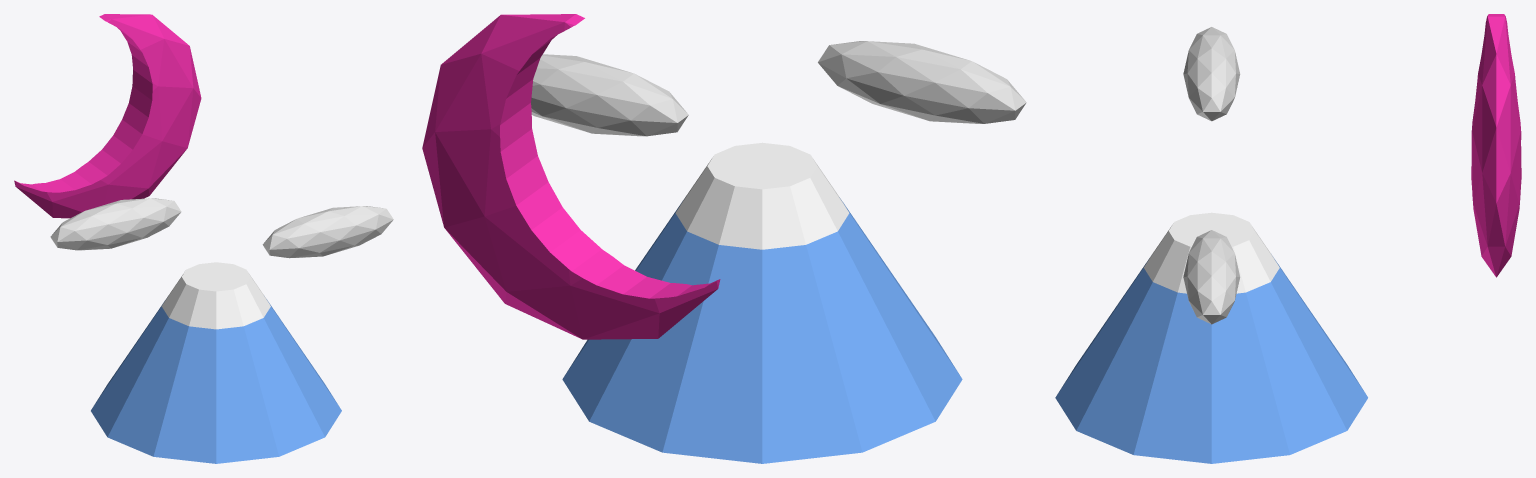
The model's file is main.glb.
3 renders of one model, left to right at view 1: azimuth 30°, elevation 25°; view 2: azimuth 150°, elevation 25°; view 3: azimuth 270°, elevation 25°, orthographic. The views are drawn at different scales.
Parts seen in each view (by area): view 1: ICO球, ICO球.002; view 2: ICO球, ICO球.002; view 3: ICO球, ICO球.002.
Part boxes in pixels (bbox=[...]): ICO球: bbox=[50, 198, 393, 463]; ICO球.002: bbox=[14, 14, 201, 218]; ICO球: bbox=[531, 41, 1026, 463]; ICO球.002: bbox=[422, 14, 720, 339]; ICO球: bbox=[1055, 27, 1367, 463]; ICO球.002: bbox=[1471, 14, 1521, 277].
Bounding box in the file's own units: 3.4 × 2.98 × 3.28.
